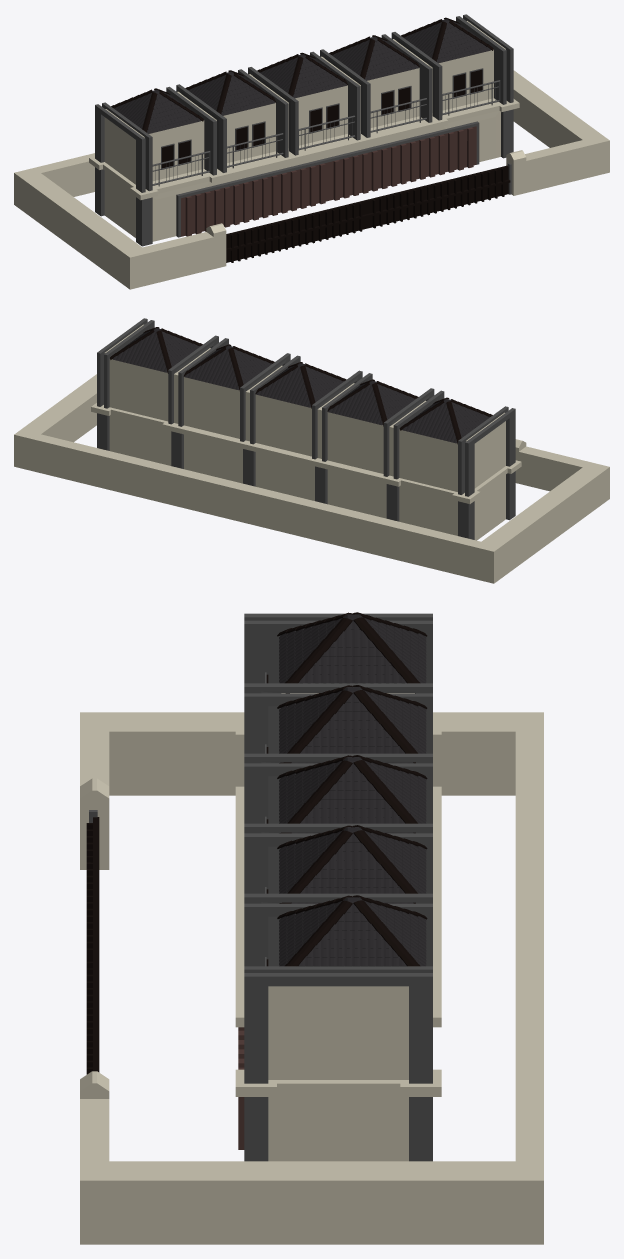
File: rumah mc gerbang 5.fbx
The picture shows the model from 3 angles, top to bottom: view 1: azimuth 30°, elevation 25°; view 2: azimuth 150°, elevation 25°; view 3: azimuth 270°, elevation 25°; orthographic projection. The views are drawn at different scales.
Parts seen in each view (by area): view 1: Plane, Plane.013, Plane.039, Plane.015, Plane.012, Plane.051, Plane.016, Plane.037, Plane.040, Plane.038, Plane.027, Plane.052 (+19 smaller); view 2: Plane, Plane.013, Plane.012, Plane.037, Plane.051, Plane.038, Plane.040, Plane.027, Plane.007, Plane.030, Plane.020, Plane.055 (+11 smaller); view 3: Plane.013, Plane, Plane.051, Plane.040, Plane.027, Plane.038, Plane.037, Plane.012, Plane.053, Plane.015, Plane.005, Plane.018 (+17 smaller).
Part boxes in pixels (bbox=[...]): Plane: bbox=[89, 21, 519, 241]; Plane.013: bbox=[14, 70, 609, 289]; Plane.039: bbox=[181, 126, 476, 236]; Plane.015: bbox=[226, 165, 510, 262]; Plane.012: bbox=[95, 102, 152, 246]; Plane.051: bbox=[456, 14, 513, 158]; Plane.016: bbox=[176, 121, 479, 237]; Plane.037: bbox=[166, 84, 226, 175]; Plane.040: bbox=[381, 32, 442, 122]; Plane.038: bbox=[238, 67, 298, 157]; Plane.027: bbox=[310, 49, 370, 140]; Plane.052: bbox=[437, 23, 490, 63]; Plane: bbox=[91, 324, 521, 540]; Plane.013: bbox=[14, 374, 609, 583]; Plane.012: bbox=[458, 406, 515, 539]; Plane.037: bbox=[383, 388, 444, 521]; Plane.051: bbox=[97, 318, 154, 450]; Plane.038: bbox=[312, 370, 372, 504]; Plane.040: bbox=[168, 335, 228, 468]; Plane.027: bbox=[240, 353, 300, 486]; Plane.007: bbox=[402, 403, 456, 443]; Plane.030: bbox=[256, 367, 310, 407]; Plane.020: bbox=[328, 385, 382, 425]; Plane.055: bbox=[112, 332, 167, 372]; Plane.013: bbox=[80, 712, 543, 1244]; Plane: bbox=[235, 693, 441, 1161]; Plane.051: bbox=[244, 966, 432, 1161]; Plane.040: bbox=[244, 893, 432, 966]; Plane.027: bbox=[244, 823, 432, 893]; Plane.038: bbox=[244, 753, 432, 823]; Plane.037: bbox=[244, 683, 432, 753]; Plane.012: bbox=[244, 613, 432, 683]; Plane.053: bbox=[299, 904, 406, 966]; Plane.015: bbox=[86, 817, 99, 1074]; Plane.005: bbox=[298, 621, 406, 683]; Plane.018: bbox=[291, 693, 413, 763].
Bounding box in the file's own units: 5178 × 1304 × 2168.
